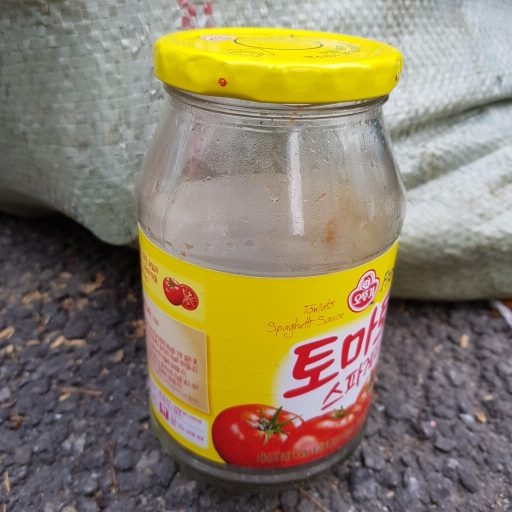Glass_5: (136, 23, 411, 485)
